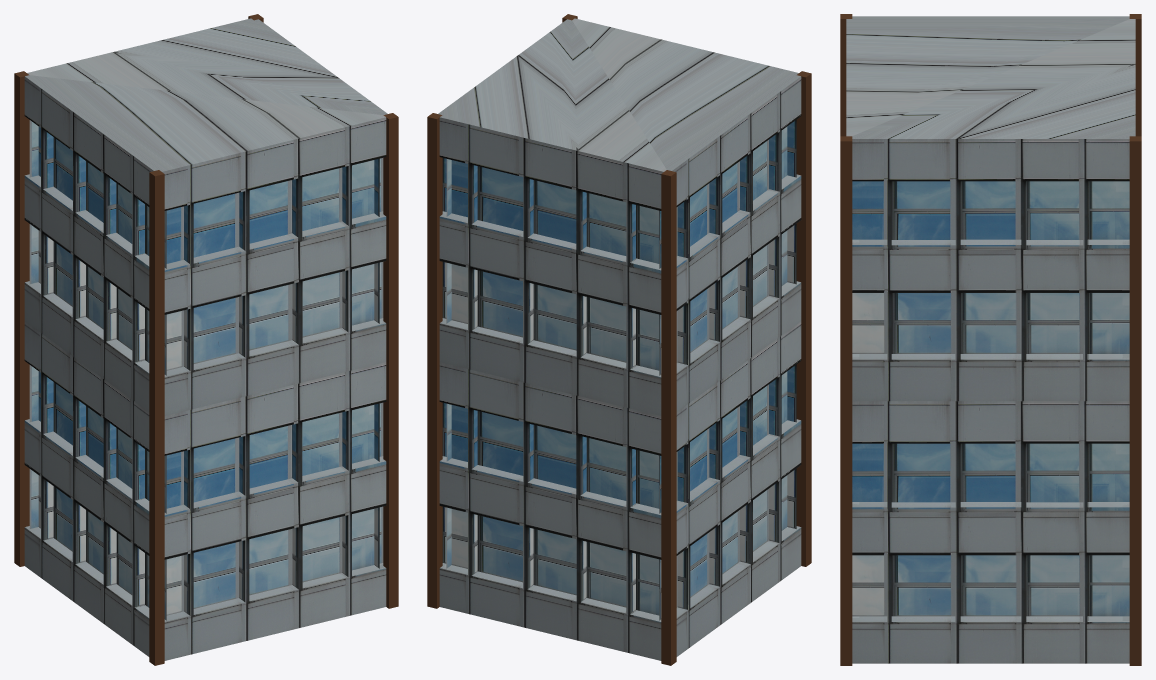
File: BG_Building2.fbx
3 views of the same model, side by side, from view 1: azimuth 30°, elevation 25°; view 2: azimuth 150°, elevation 25°; view 3: azimuth 270°, elevation 25° (orthographic). The views are drawn at different scales.
Visible parts, largest first — view 1: BG_Building2; view 2: BG_Building2; view 3: BG_Building2.
Boxes of the visible parts, x1,y1,x2,y2 form: BG_Building2: [14, 14, 398, 665]; BG_Building2: [427, 14, 811, 665]; BG_Building2: [840, 14, 1141, 665].
Bounding box in the file's own units: 415 × 797 × 415.
